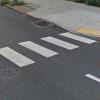Crosswalk: (5, 24, 100, 70)
